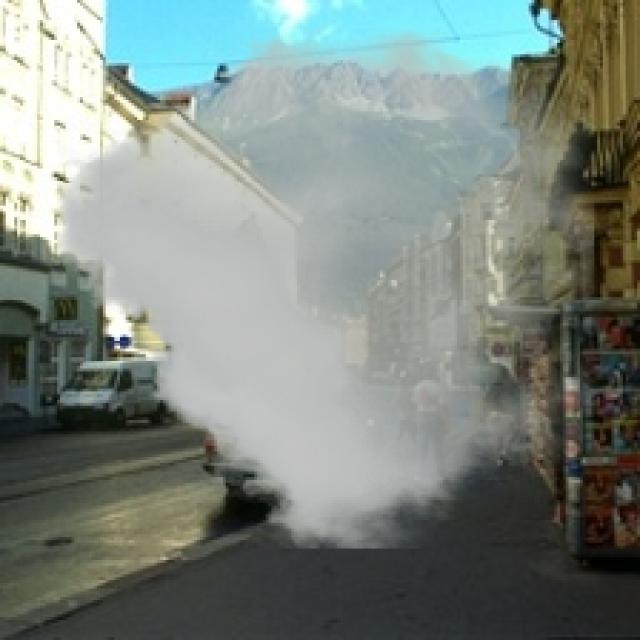smoke: (57, 29, 594, 548)
